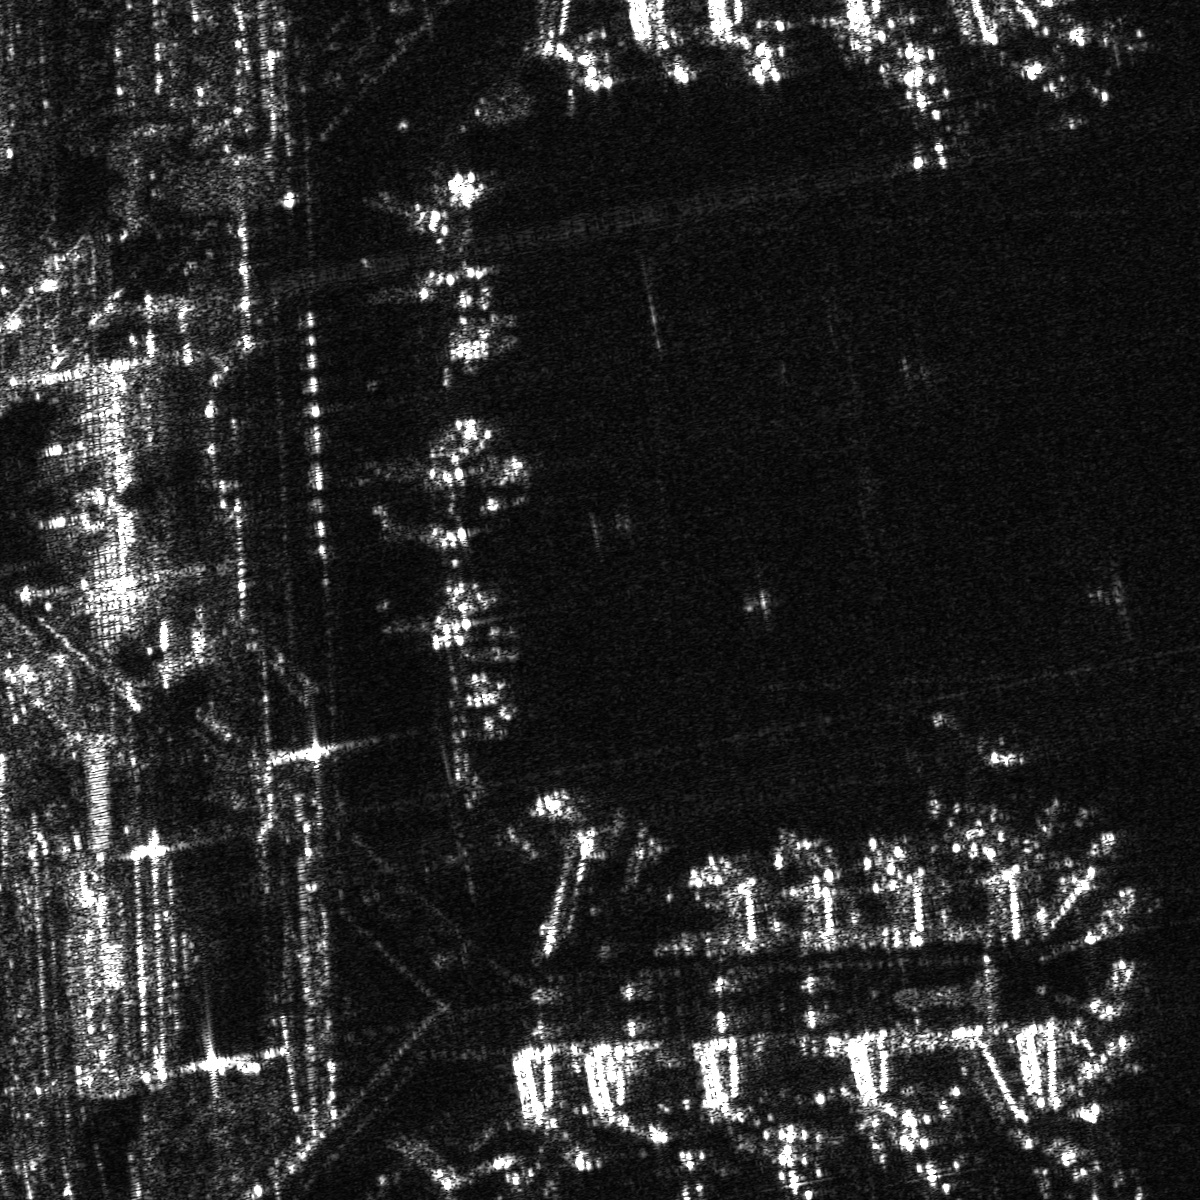A220: (925, 736, 1027, 845), (651, 1141, 731, 1199)
A320/321: (424, 407, 531, 516), (879, 66, 973, 176), (414, 574, 524, 664), (1059, 11, 1152, 73)
Boeing737: (1023, 1129, 1137, 1199), (1012, 51, 1126, 114)
Boeing787: (738, 1137, 848, 1199)
other: (889, 1126, 989, 1199)
